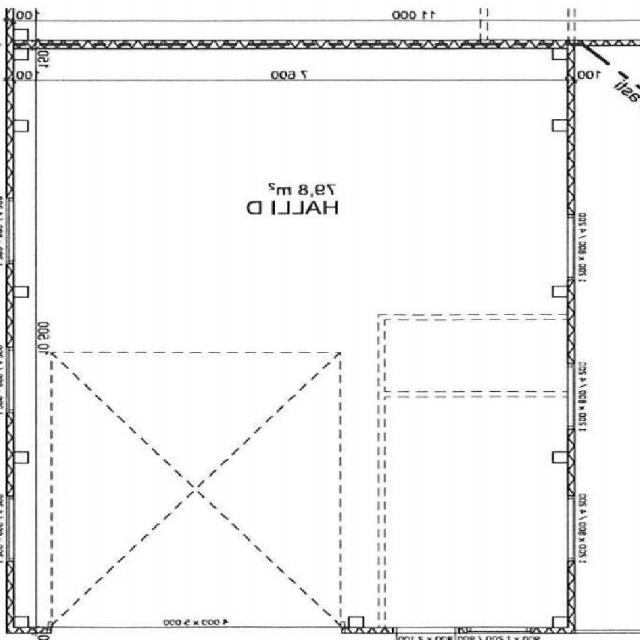door: (397, 627, 455, 640)
